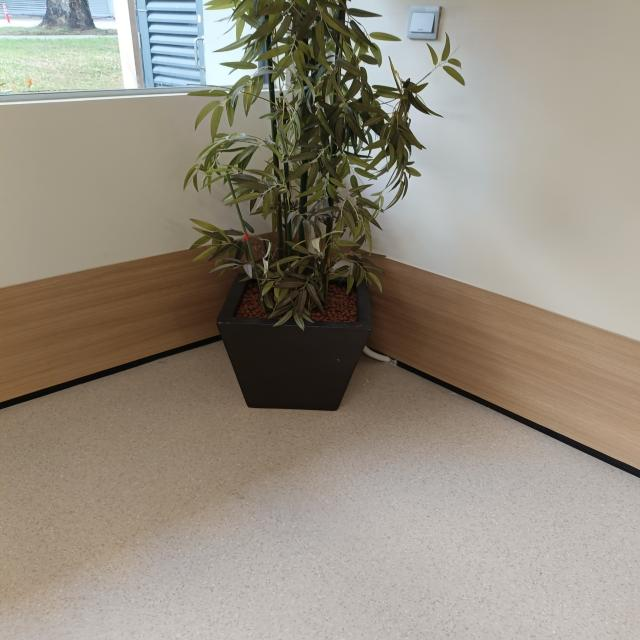Pot: (215, 273, 374, 411)
